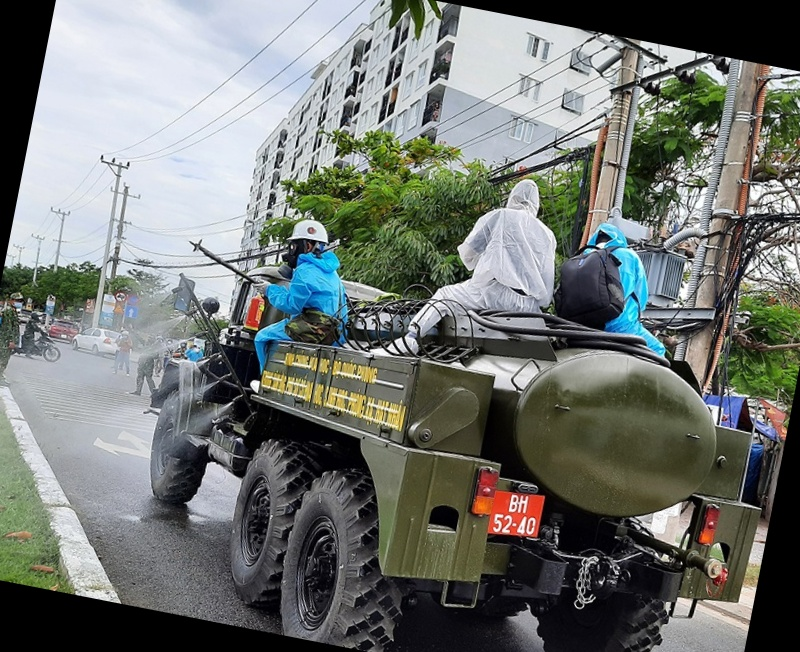plate: (483, 481, 544, 539)
